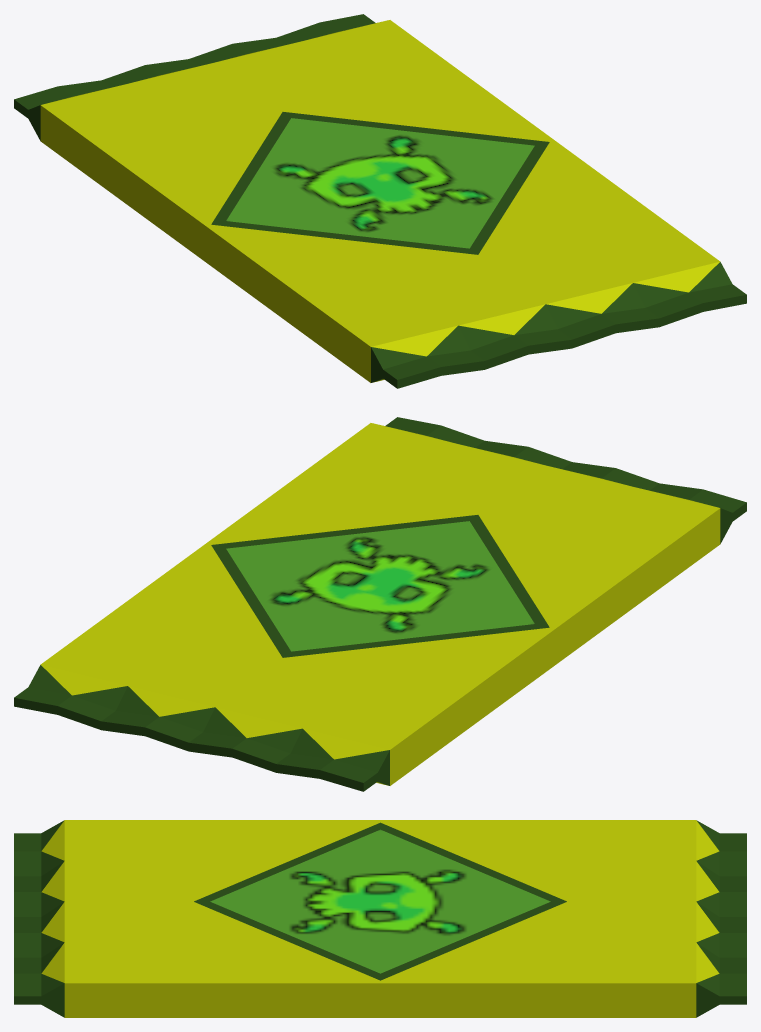
File: CardPack_Poison.fbx
The picture shows the model from 3 angles, top to bottom: view 1: azimuth 30°, elevation 25°; view 2: azimuth 150°, elevation 25°; view 3: azimuth 270°, elevation 25°; orthographic projection. The views are drawn at different scales.
Visible parts, largest first — view 1: Poison; view 2: Poison; view 3: Poison.
Boxes of the visible parts, bbox=[...] form: Poison: bbox=[14, 14, 746, 388]; Poison: bbox=[14, 417, 746, 791]; Poison: bbox=[14, 820, 746, 1017].
Size of the model in its own units: 17.42 by 1.73 by 33.09.
